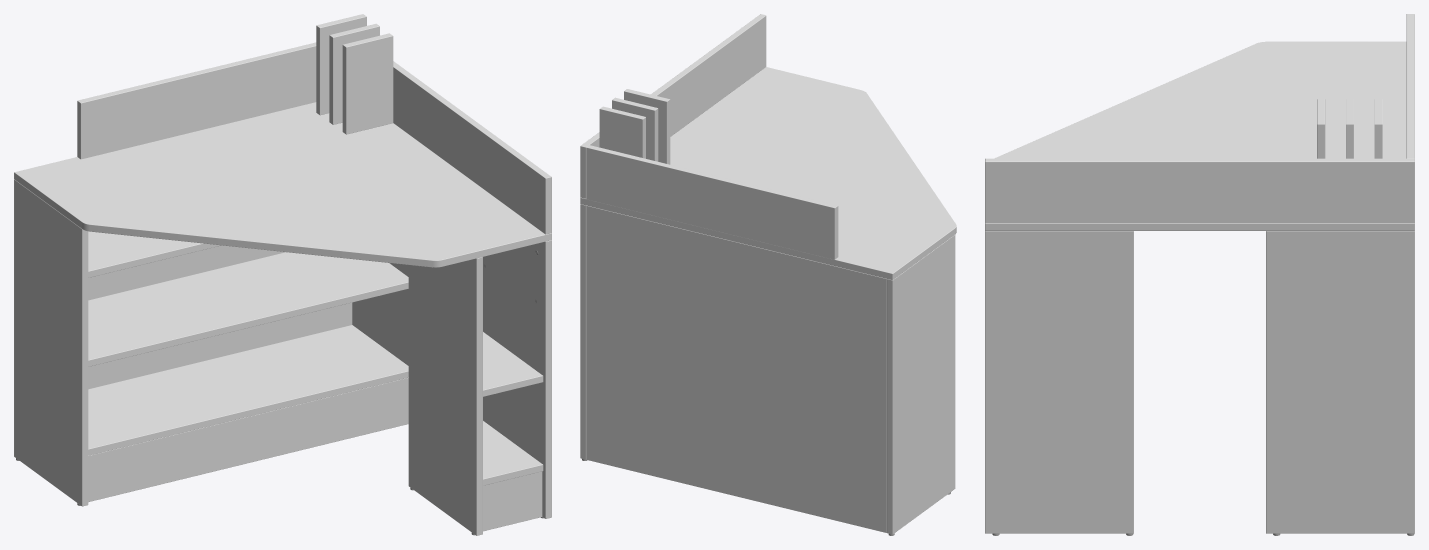
Rendered from desk_B07QTKCKVB.glb.
3 renders of one model, left to right at view 1: azimuth 30°, elevation 25°; view 2: azimuth 150°, elevation 25°; view 3: azimuth 270°, elevation 25°, orthographic. The views are drawn at different scales.
Visible parts, largest first — view 1: B07QTKCKVB; view 2: B07QTKCKVB; view 3: B07QTKCKVB.
Part boxes in pixels (bbox=[...]): B07QTKCKVB: bbox=[14, 14, 551, 535]; B07QTKCKVB: bbox=[580, 14, 956, 535]; B07QTKCKVB: bbox=[985, 14, 1414, 535].
Size of the model in its own units: 0.9398 by 0.9858 by 0.9398.
Materials: 1 (1 with a texture image).
